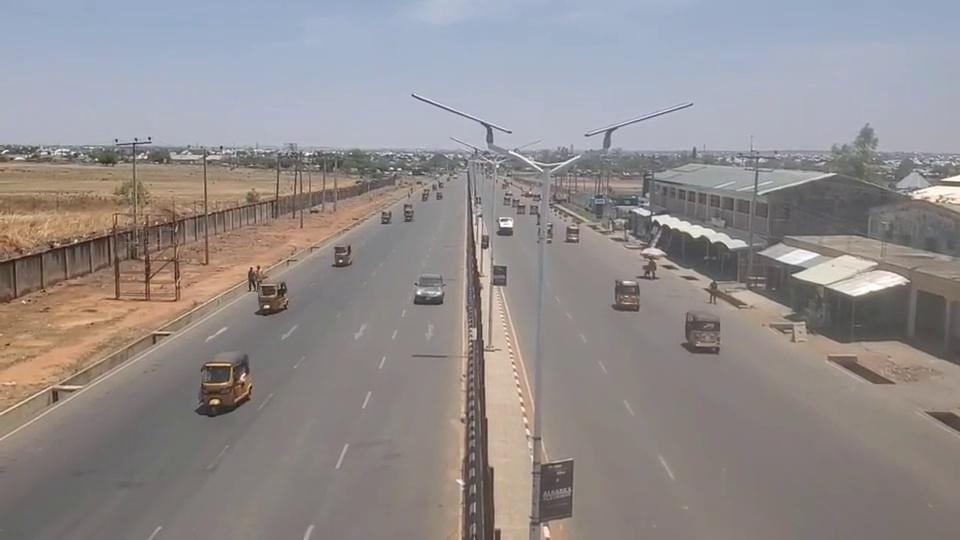keke: (198, 350, 252, 411), (256, 280, 288, 313), (613, 278, 640, 311)
